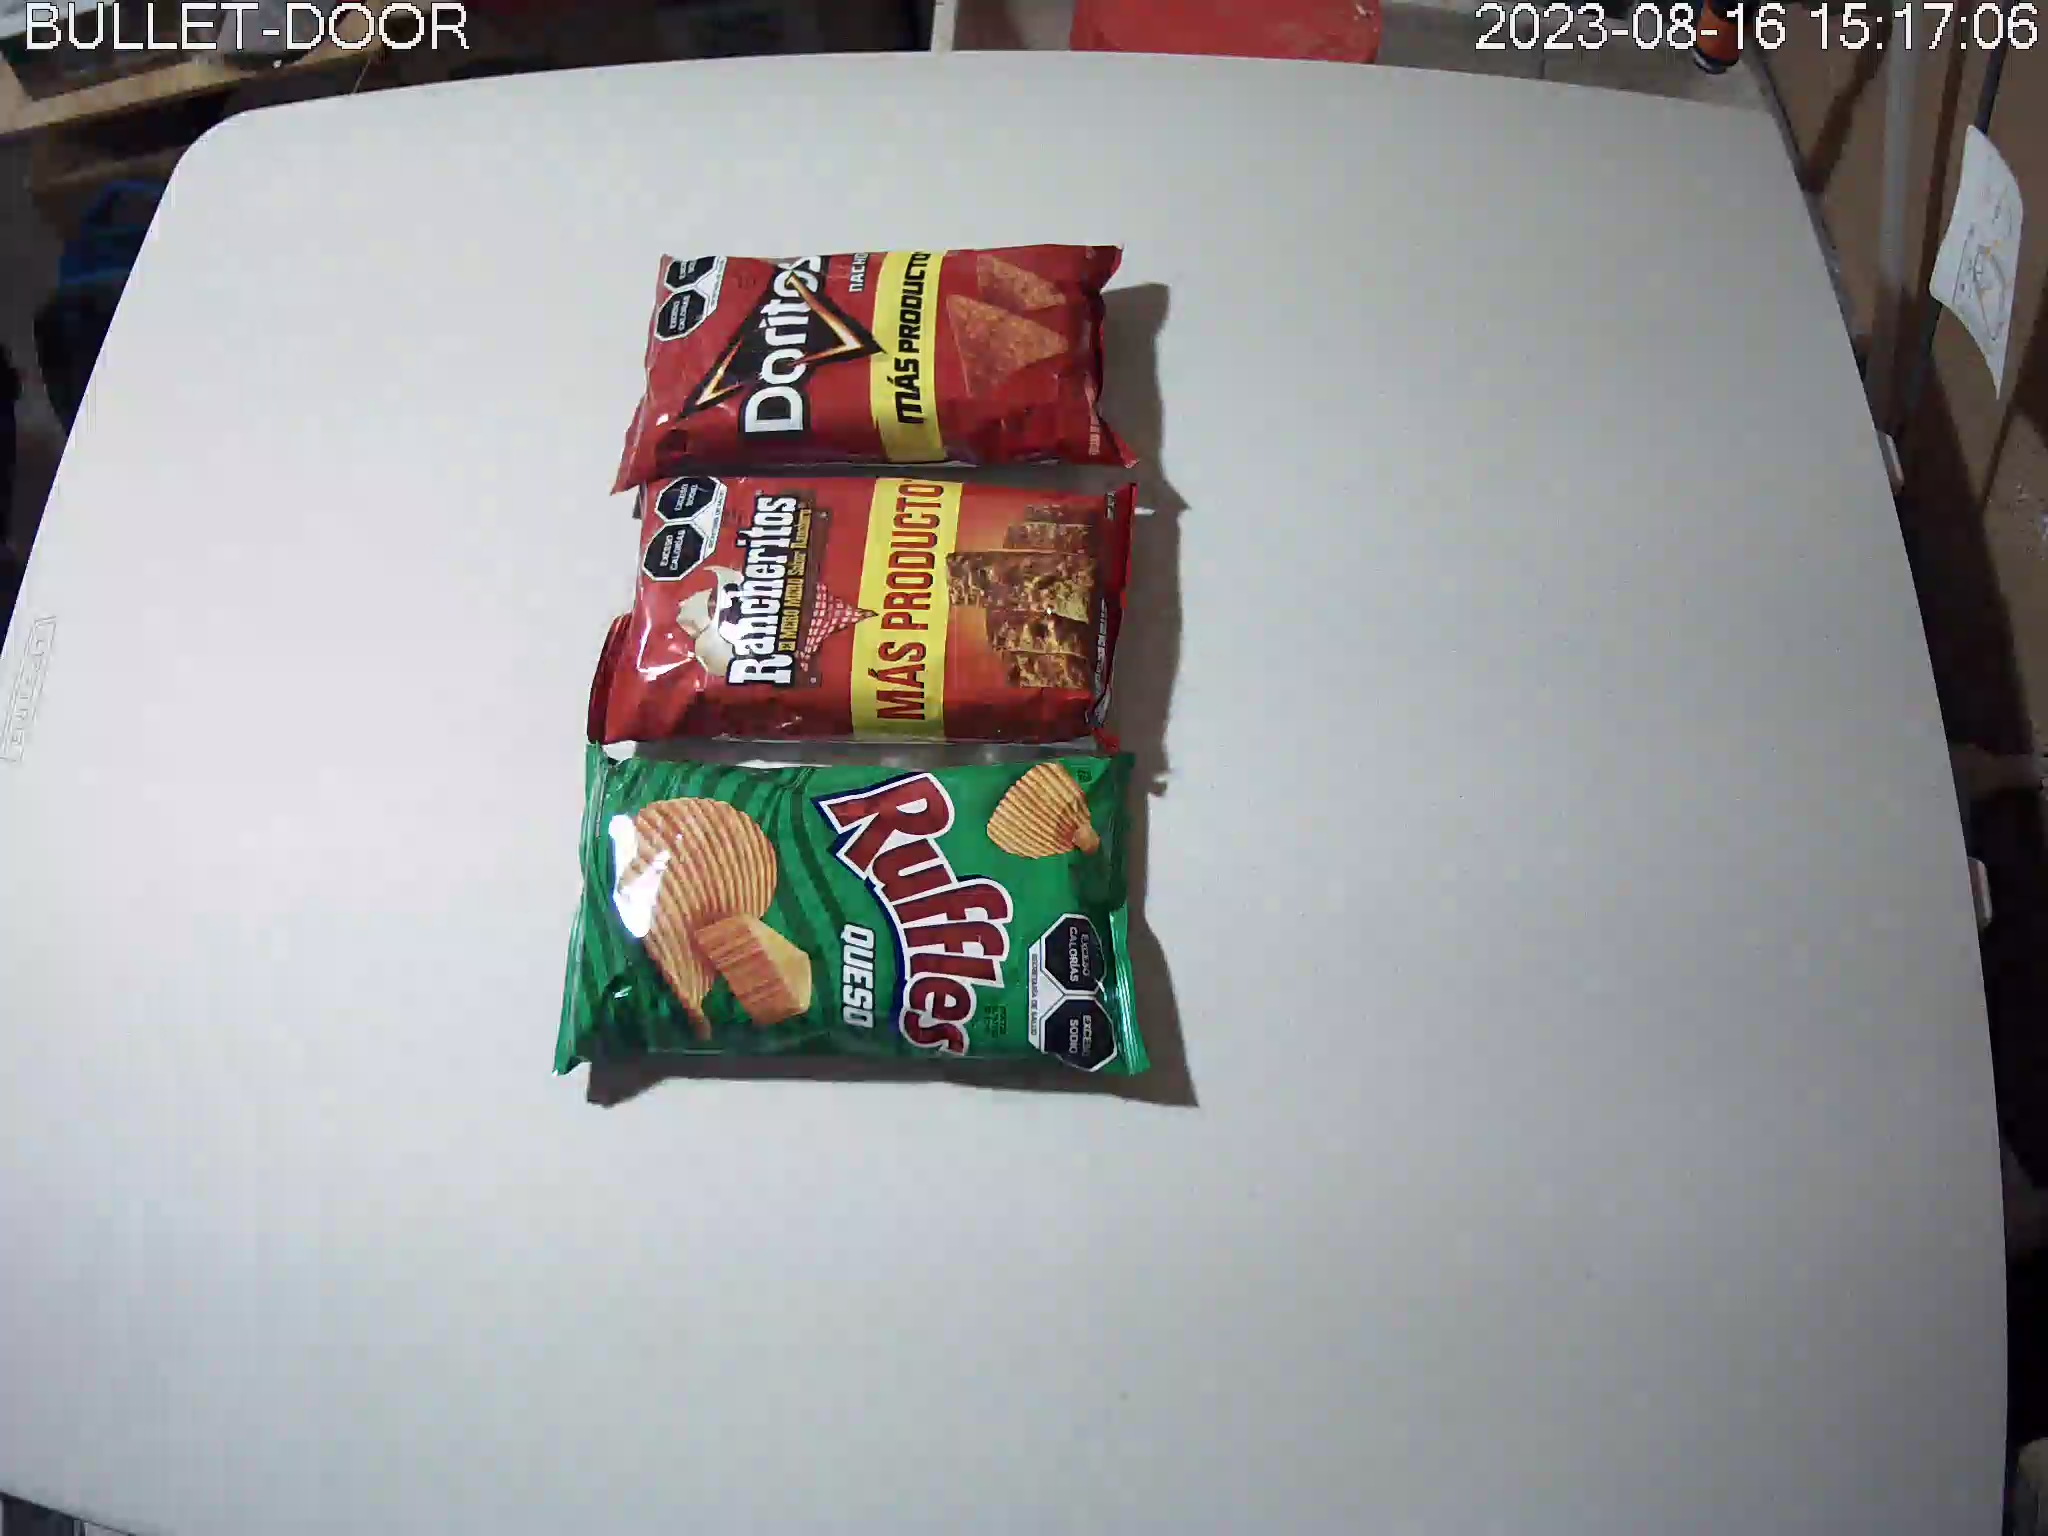DoritosN_61_F: (610, 239, 1142, 495)
Rancheritos_58_F: (585, 463, 1143, 757)
RufflesQ_48_F: (553, 741, 1153, 1079)
